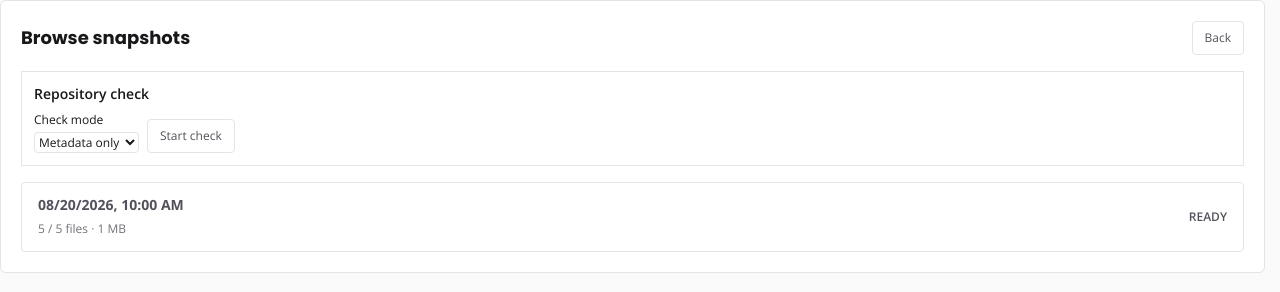
Test: BackupSnapshotBrowser › renders snapshots and navigates into snapshot contents
Expected: the text "08/20/2026, 10:00 AM" is shown, [38,195,184,215]
Click the button "08/20/2026, 10:00 AM 5 / 5 files · 1 MB READY" at {"x": 111, "y": 204}, box [21,182,1244,252]
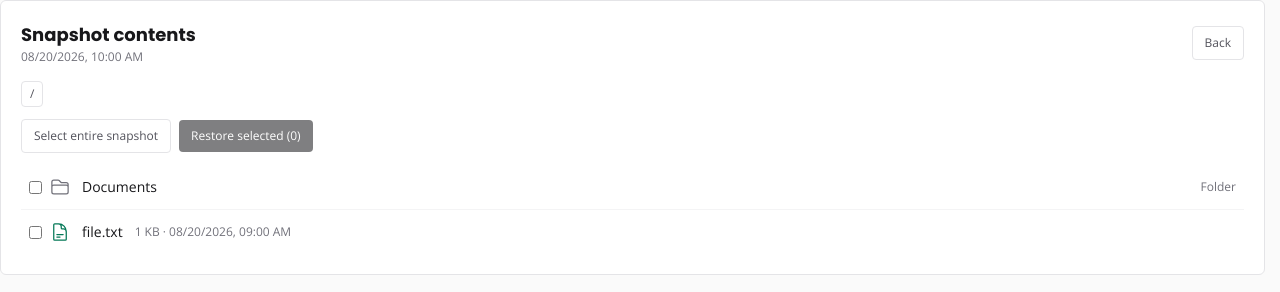
Expected: the text "Snapshot contents" is shown, [21,21,196,49]
Expected: the text "Documents" is shown, [82,177,157,196]
Expected: the text "file.txt" is shown, [82,222,123,242]
